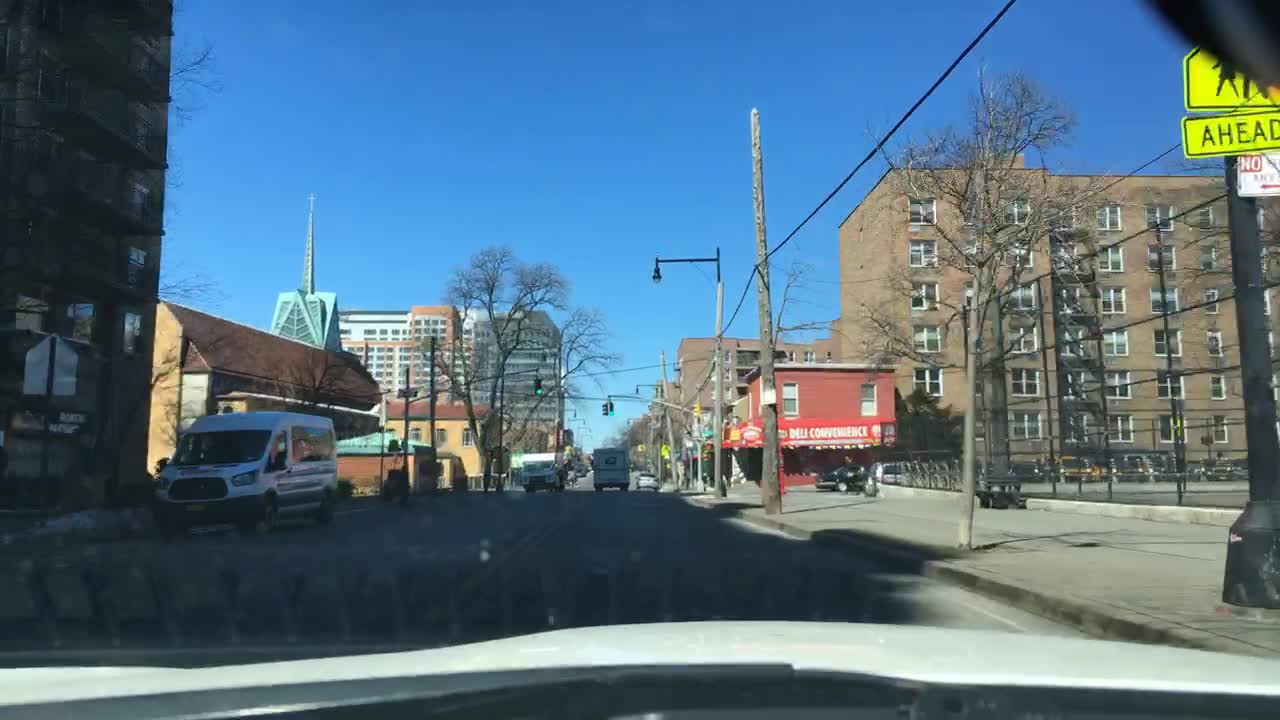car: (153, 413, 337, 524), (1048, 453, 1097, 484), (813, 467, 867, 493), (876, 458, 921, 479), (1098, 455, 1129, 484), (1009, 457, 1046, 481), (1125, 455, 1161, 479), (1151, 455, 1179, 484), (1189, 464, 1227, 482), (634, 474, 660, 494), (572, 462, 587, 477), (560, 467, 575, 482), (631, 455, 641, 472), (587, 458, 594, 475)
traffic light: (725, 426, 742, 445), (533, 376, 540, 394), (600, 401, 607, 418), (692, 404, 698, 421), (607, 401, 612, 418)
traffic sign: (1181, 47, 1279, 160), (1235, 153, 1279, 197), (660, 443, 671, 460), (698, 430, 715, 438)
truck: (589, 445, 631, 496), (518, 449, 563, 489)
